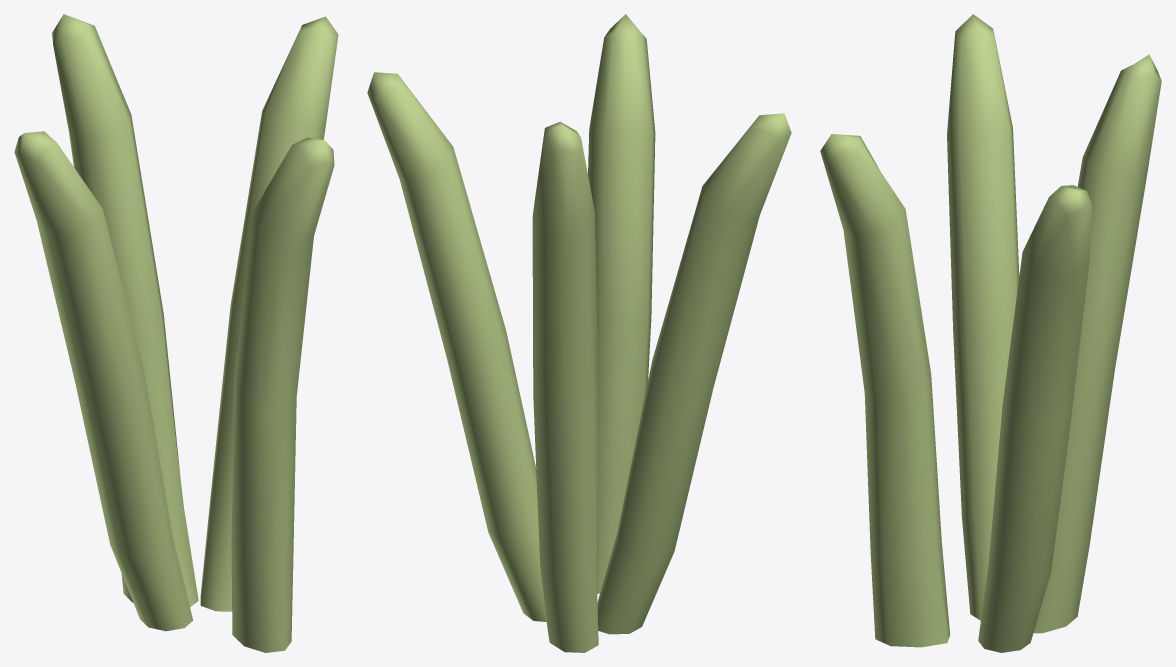
Rendered from Grass_11.fbx.
The picture shows the model from 3 angles, left to right: view 1: azimuth 30°, elevation 25°; view 2: azimuth 150°, elevation 25°; view 3: azimuth 270°, elevation 25°; orthographic projection. The views are drawn at different scales.
Visible parts, largest first — view 1: polySurface738; view 2: polySurface738; view 3: polySurface738.
Part boxes in pixels (left/top/right/bottom): polySurface738: left=14, top=14, right=338, bottom=652; polySurface738: left=367, top=14, right=791, bottom=652; polySurface738: left=820, top=14, right=1161, bottom=652.
Size of the model in its own units: 37.15 by 53.89 by 30.58.
